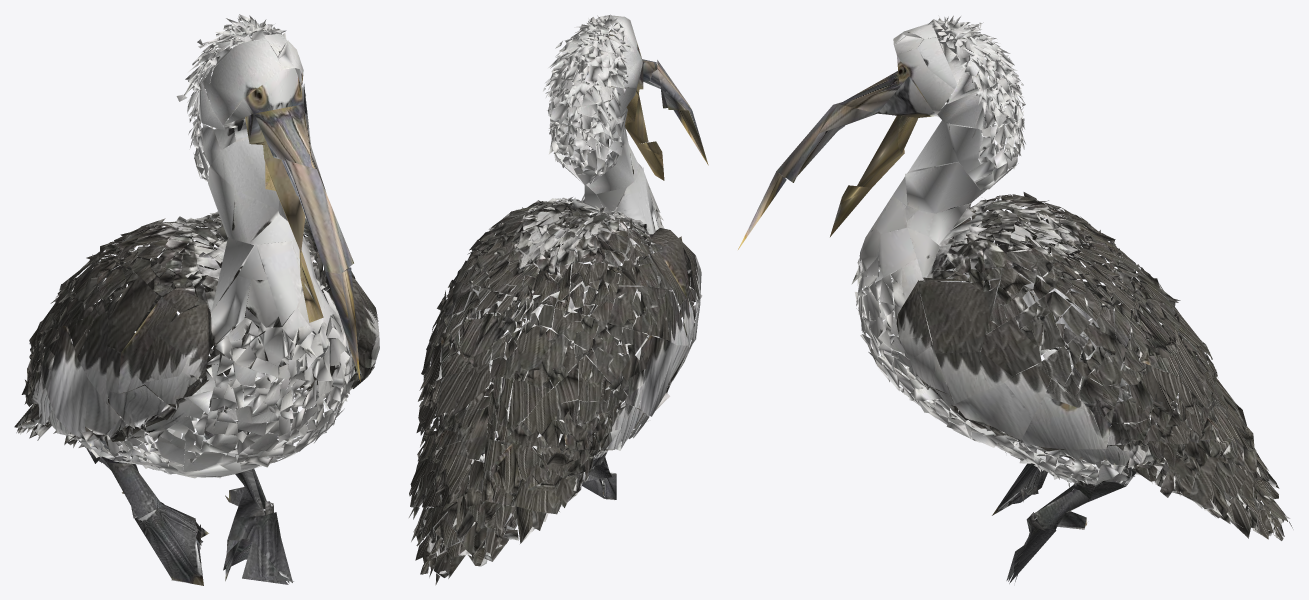
File: pelican.glb
The picture shows the model from 3 angles, left to right: view 1: azimuth 30°, elevation 25°; view 2: azimuth 150°, elevation 25°; view 3: azimuth 270°, elevation 25°; orthographic projection. The views are drawn at different scales.
Visible parts, largest first — view 1: Mesh_0; view 2: Mesh_0; view 3: Mesh_0.
Boxes of the visible parts, x1=… form: Mesh_0: x1=14, y1=14, x2=379, y2=585; Mesh_0: x1=409, y1=14, x2=708, y2=585; Mesh_0: x1=738, y1=15, x2=1293, y2=583.
Bounding box in the file's own units: 0.8408 × 1.85 × 1.74.
Materials: 1 (1 with a texture image).
